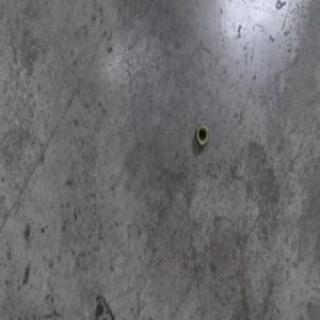Nuttrack_idkeyframe: (195, 123, 208, 148)
